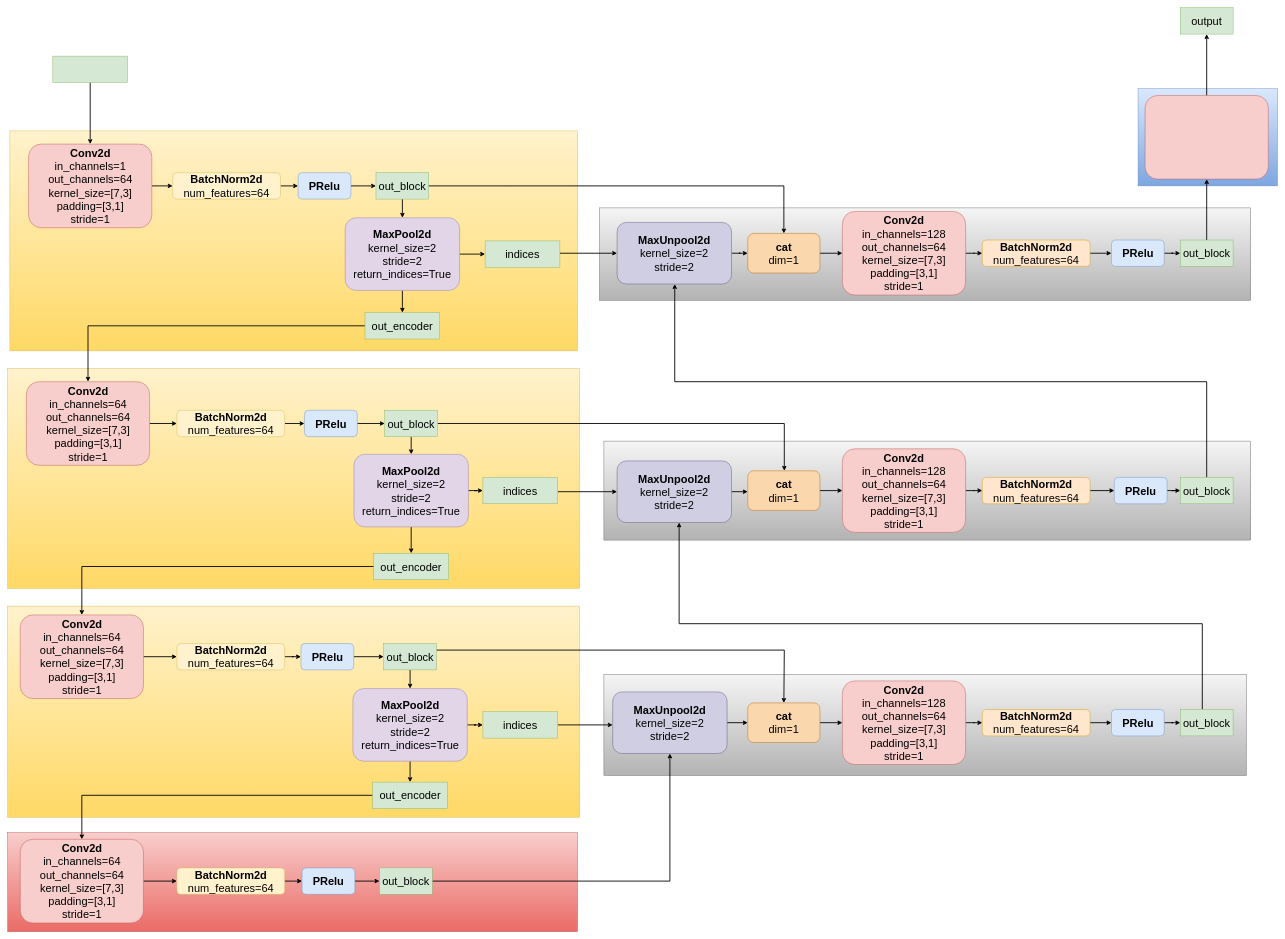
Image size: 1285x939. Some labels were removed from this diagram. Here are the shapes that lost their labels. From the top down, the box of each, then its label:
(52, 56, 128, 82): input
(1145, 95, 1268, 179): Conv2d in_channels=64 out_channels=64 kernel_size=[1,1] padding=[3,1] stride=1
